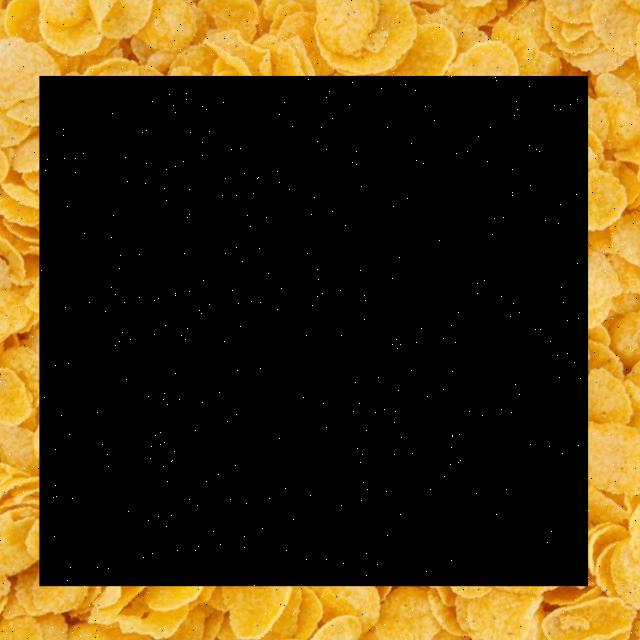Cornflakes: (40, 76, 589, 586)
